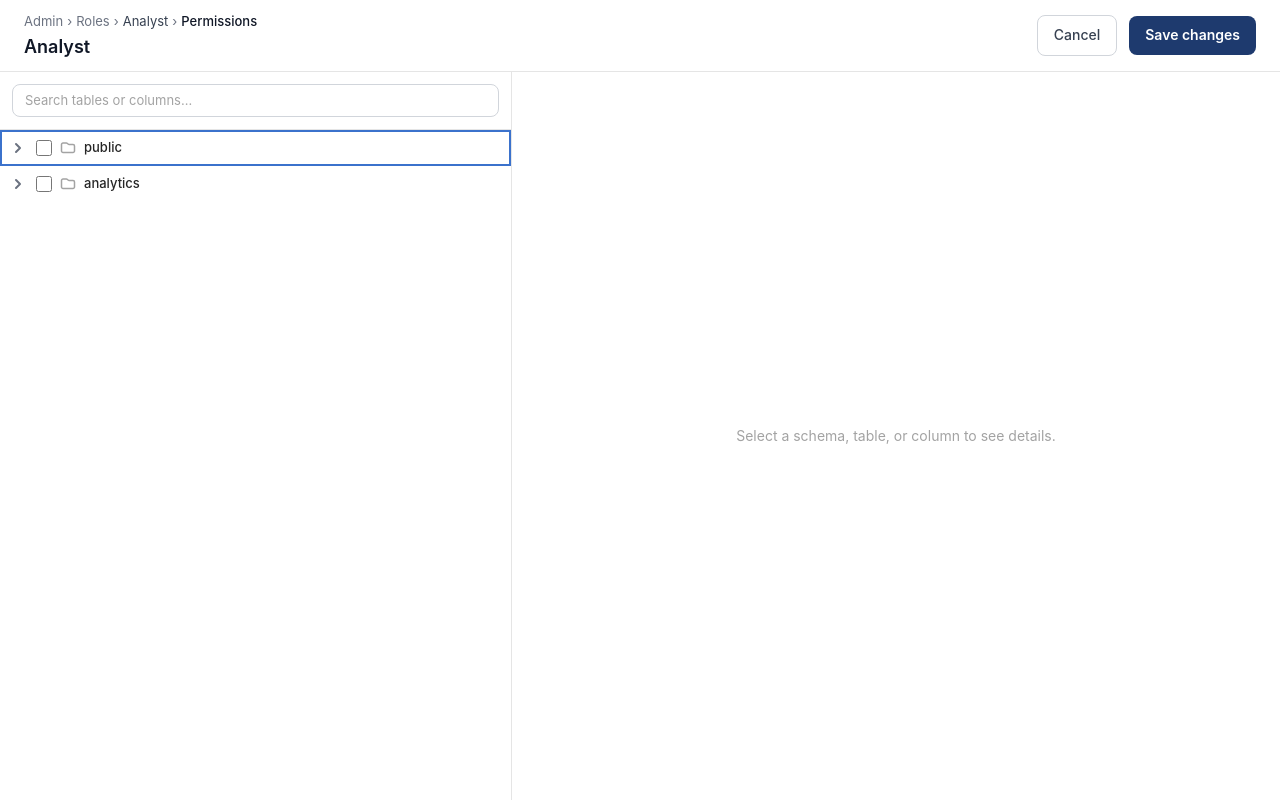
PermissionEditorPage › schema tree › expands a table to show columns
The width and height of the screenshot is (1280, 800).
Expected: the text "public" is shown, [84,139,122,155]
Note: Expand schema
Click the button named "Expand" next to "public".
click(18, 148)  # box [8,138,28,158]
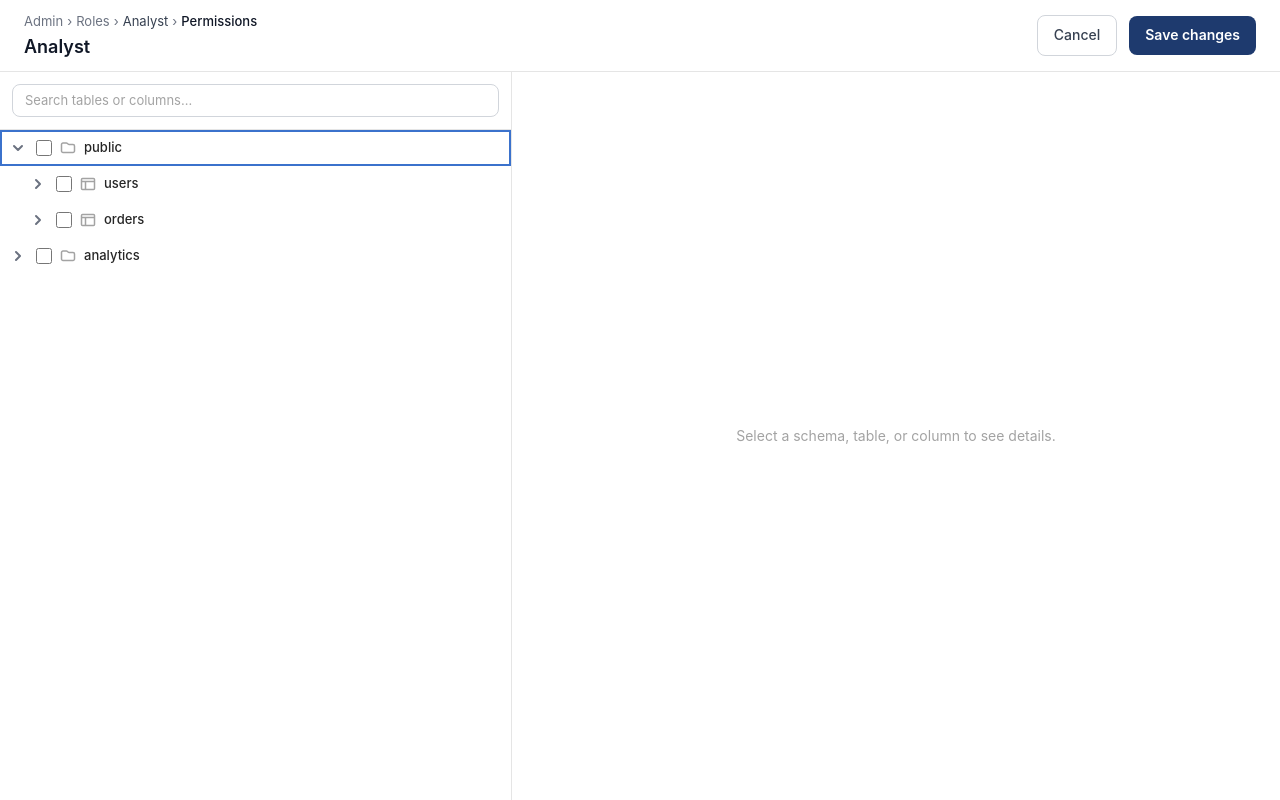
Now the text "users" is shown, box [104,175,138,191]
Note: Expand users table
Click the button named "Expand" next to "users".
click(38, 184)  # box [28,174,48,194]
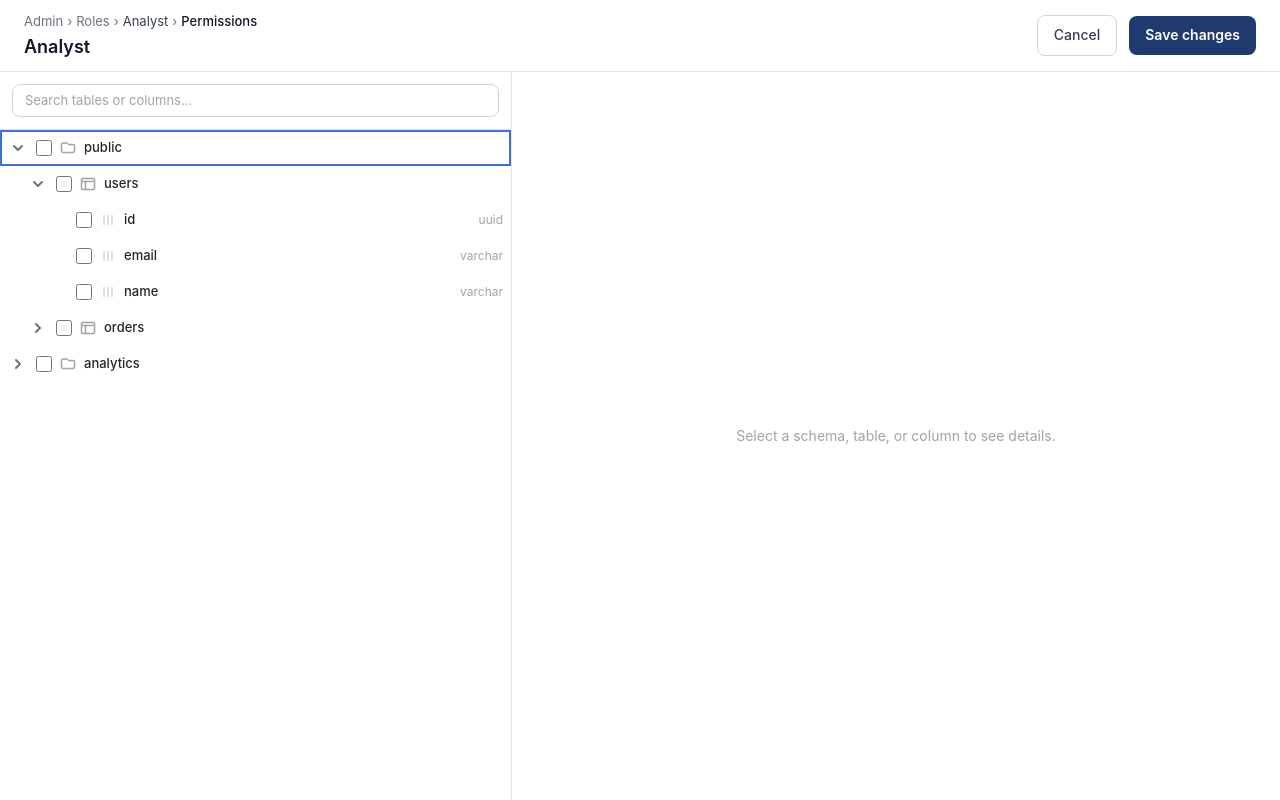
Now the text "id" is shown, box [124,211,135,227]
Now the text "email" is shown, box [124,247,157,263]
Now the text "name" is shown, box [124,283,158,299]
